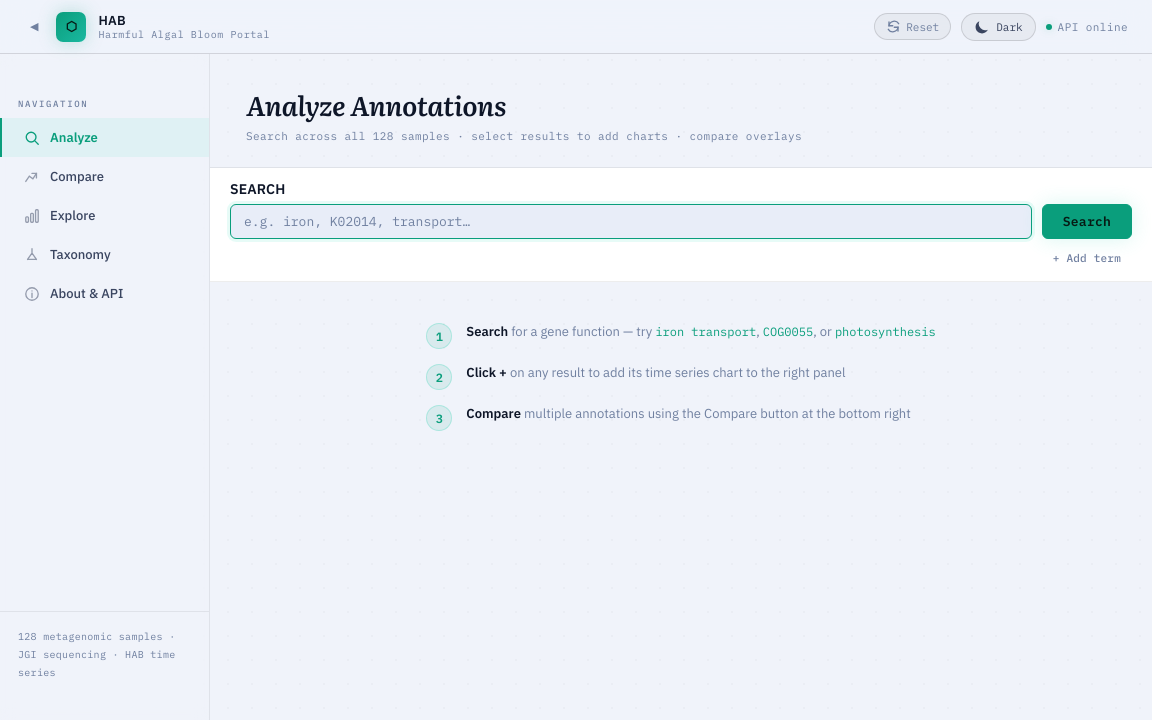
it: AnalyzePage — search › shows error state when search API fails
The image size is (1152, 720).
Type "alcohol" into the field with placeholder "e.g. iron, K02014, transport…" at (631, 222), box 230,204 -> 1032,239
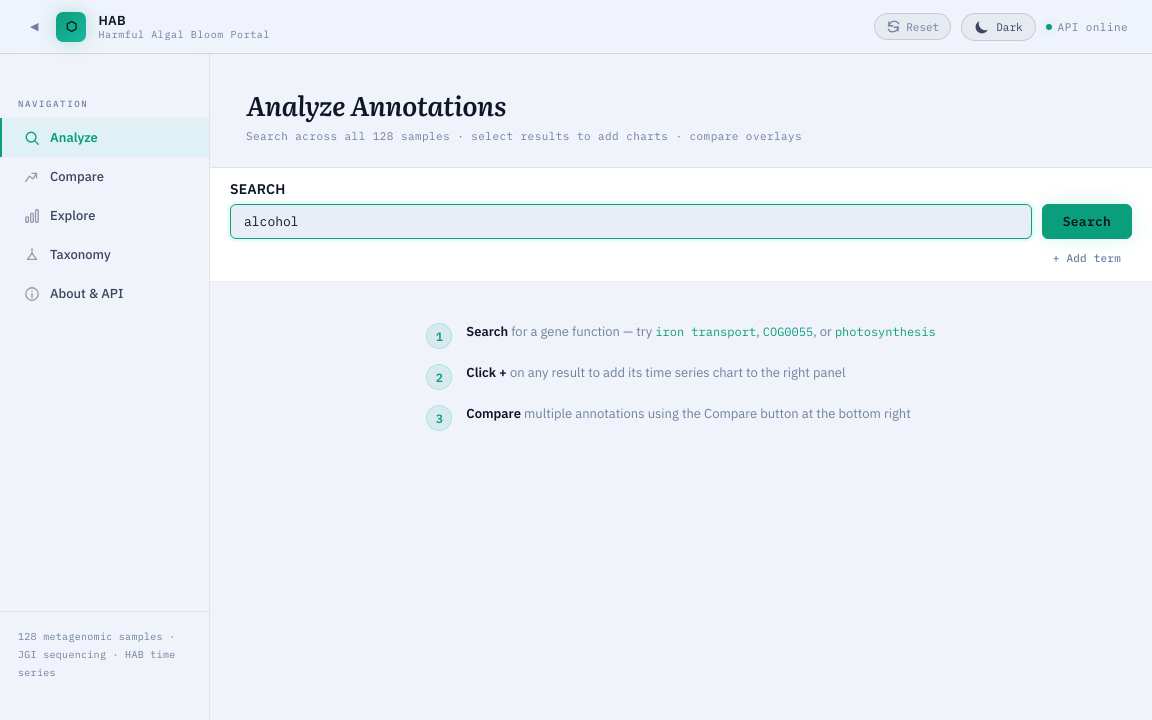
Press Enter
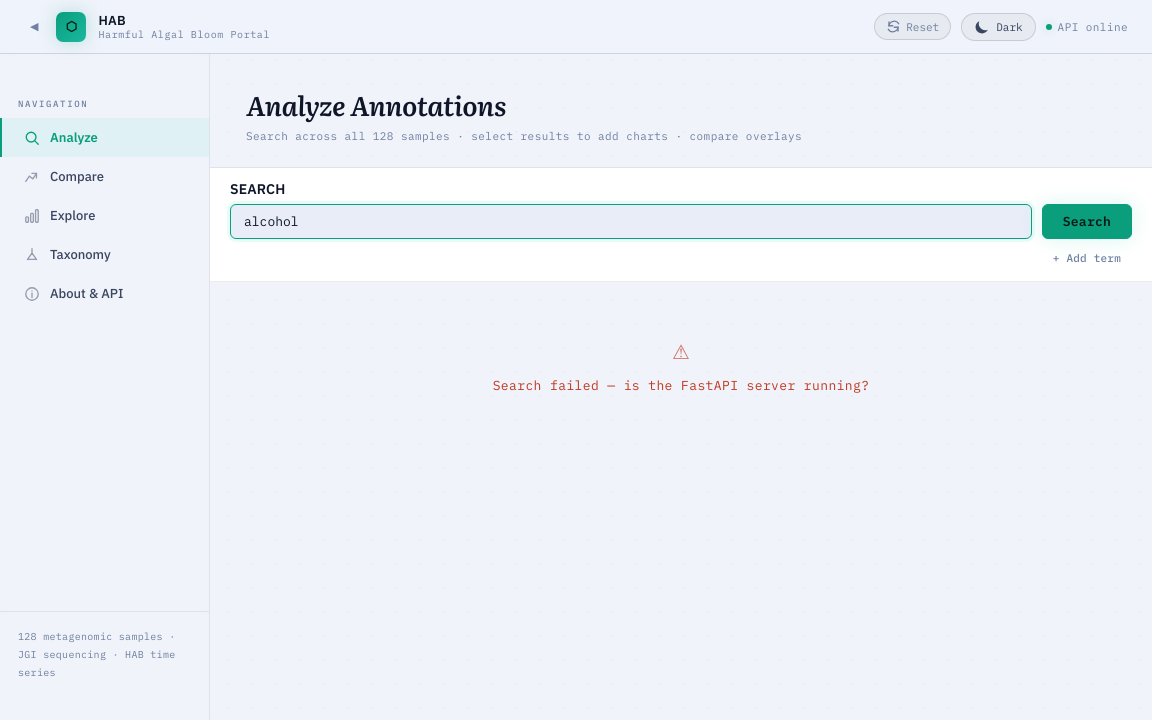
Expected: the text "Search failed — is the FastAPI server running?" is shown, 493,377 -> 869,394
